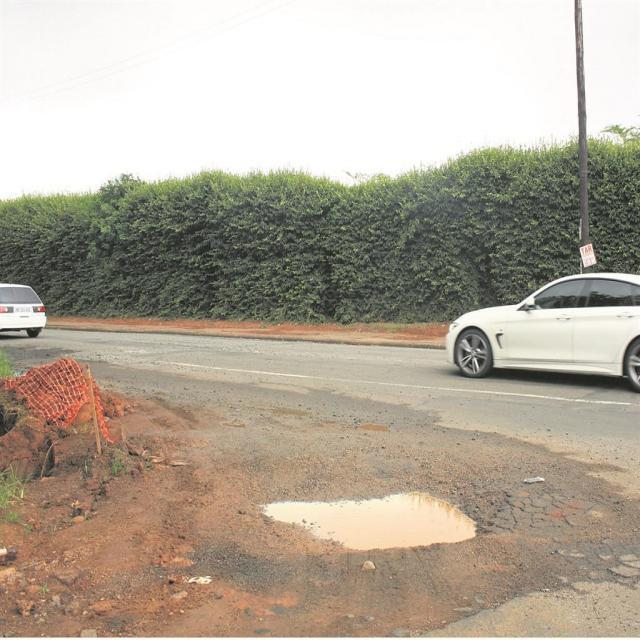Pothole: (257, 475, 494, 559)
